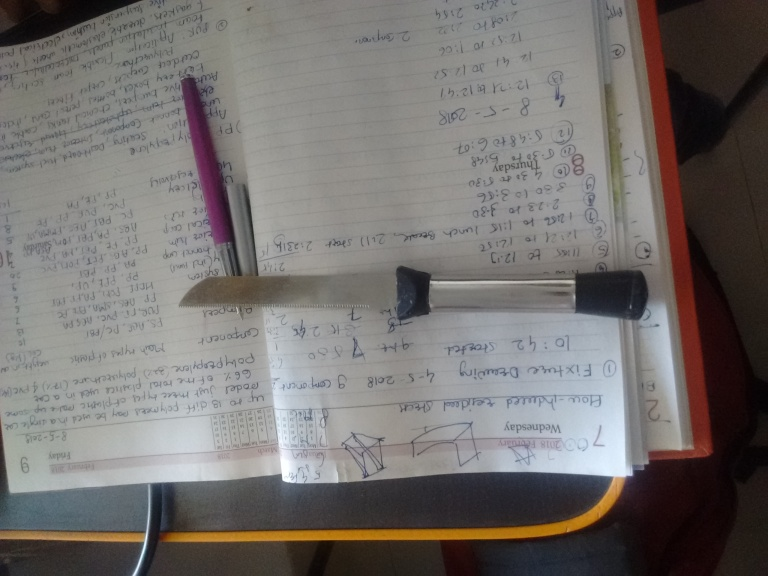knife: (175, 264, 652, 324)
